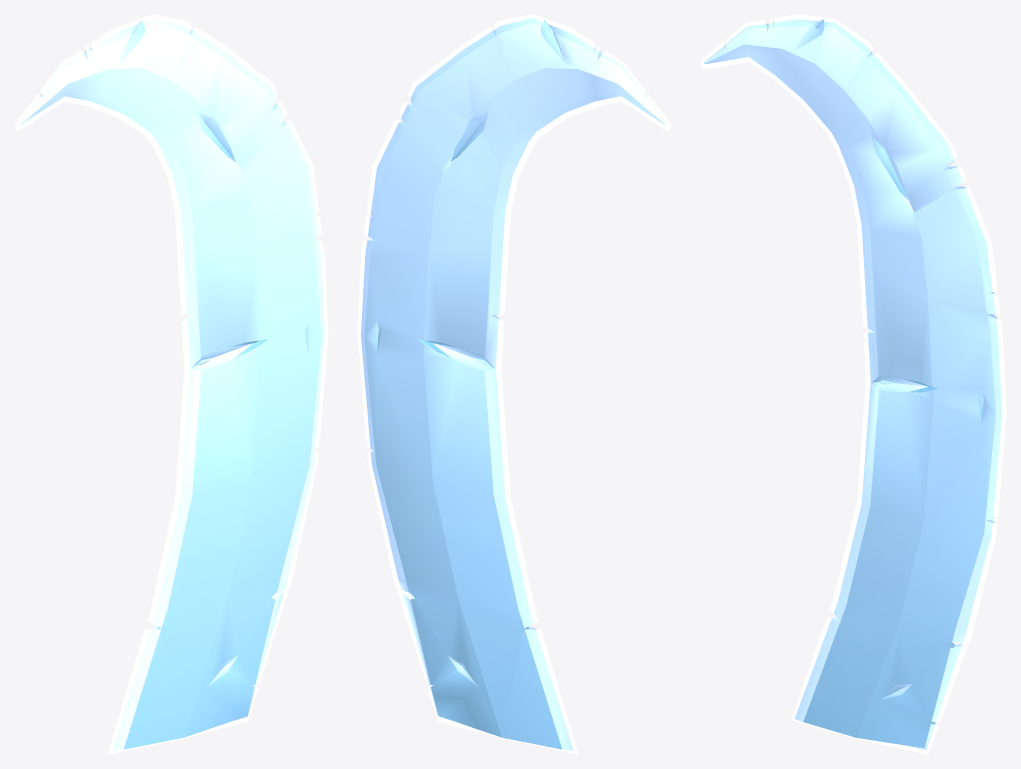
Rendered from steel_blade_scratched_044.glb.
3 renders of one model, left to right at view 1: azimuth 30°, elevation 25°; view 2: azimuth 150°, elevation 25°; view 3: azimuth 330°, elevation 25°, orthographic. The views are drawn at different scales.
Visible parts, largest first — view 1: steel_blade_scratched.044; view 2: steel_blade_scratched.044; view 3: steel_blade_scratched.044.
Part boxes in pixels (bbox=[...]): steel_blade_scratched.044: bbox=[14, 14, 328, 754]; steel_blade_scratched.044: bbox=[357, 14, 671, 754]; steel_blade_scratched.044: bbox=[700, 14, 1006, 754].
Size of the model in its own units: 4.65 by 10.35 by 0.241.
1 material, 1 textured.
